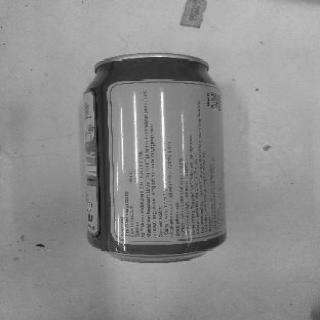alumunium_can: (84, 52, 229, 266)
